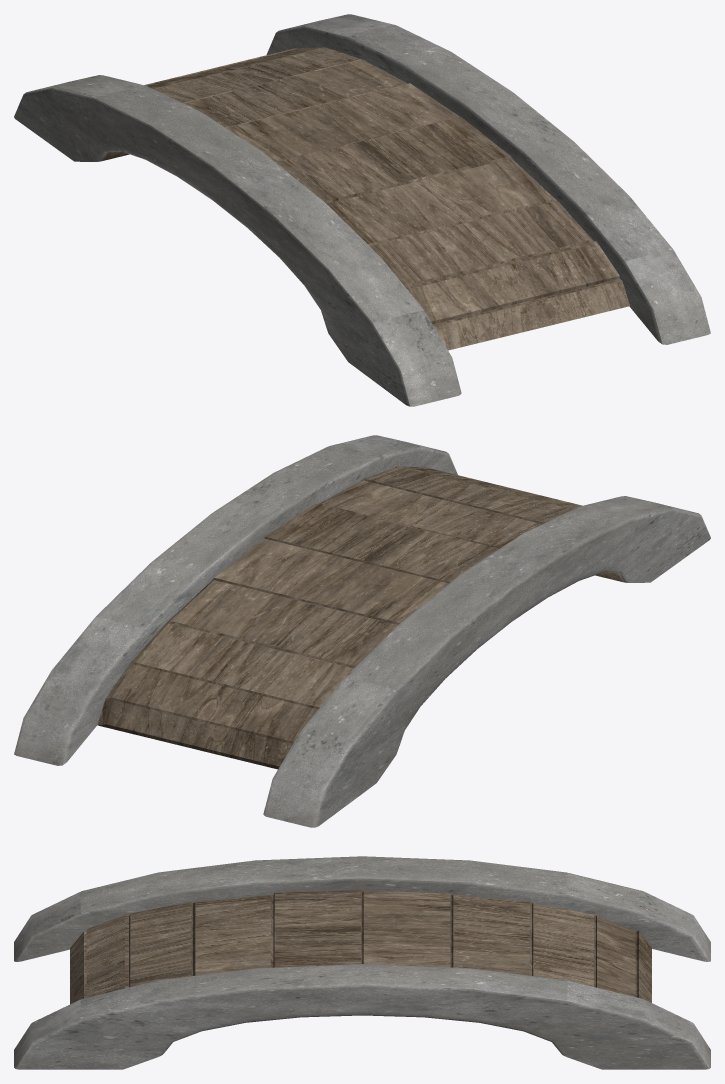
File: bridgh_.fbx
3 views of the same model, one above another, from view 1: azimuth 30°, elevation 25°; view 2: azimuth 150°, elevation 25°; view 3: azimuth 270°, elevation 25° (orthographic). The views are drawn at different scales.
Visible parts, largest first — view 1: pCylinder1; view 2: pCylinder1; view 3: pCylinder1.
Boxes of the visible parts, box(x1,y1,x2,y2) form: pCylinder1: box(14, 14, 710, 406); pCylinder1: box(14, 435, 710, 827); pCylinder1: box(14, 856, 710, 1069).
Size of the model in its own units: 9.06 by 2.77 by 20.56.
